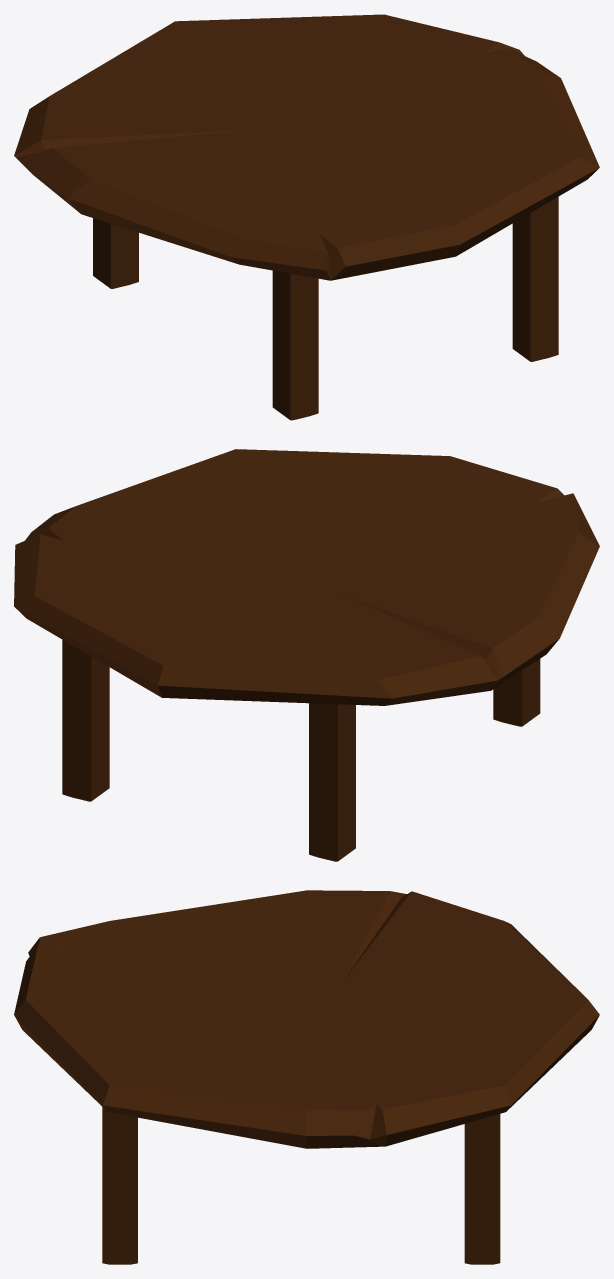
Rendered from table_round.fbx.
3 views of the same model, one above another, from view 1: azimuth 30°, elevation 25°; view 2: azimuth 150°, elevation 25°; view 3: azimuth 270°, elevation 25° (orthographic). The views are drawn at different scales.
Visible parts, largest first — view 1: Cube, Cube.001; view 2: Cube, Cube.001; view 3: Cube, Cube.001.
Boxes of the visible parts, box(x1,y1,x2,y2) form: Cube: box(14, 14, 599, 280); Cube.001: box(93, 197, 558, 420); Cube: box(14, 449, 599, 705); Cube.001: box(62, 640, 540, 861); Cube: box(14, 890, 599, 1148); Cube.001: box(102, 1107, 500, 1264).
Bounding box in the file's own units: 927 × 352 × 947.
1 material, 1 textured.
